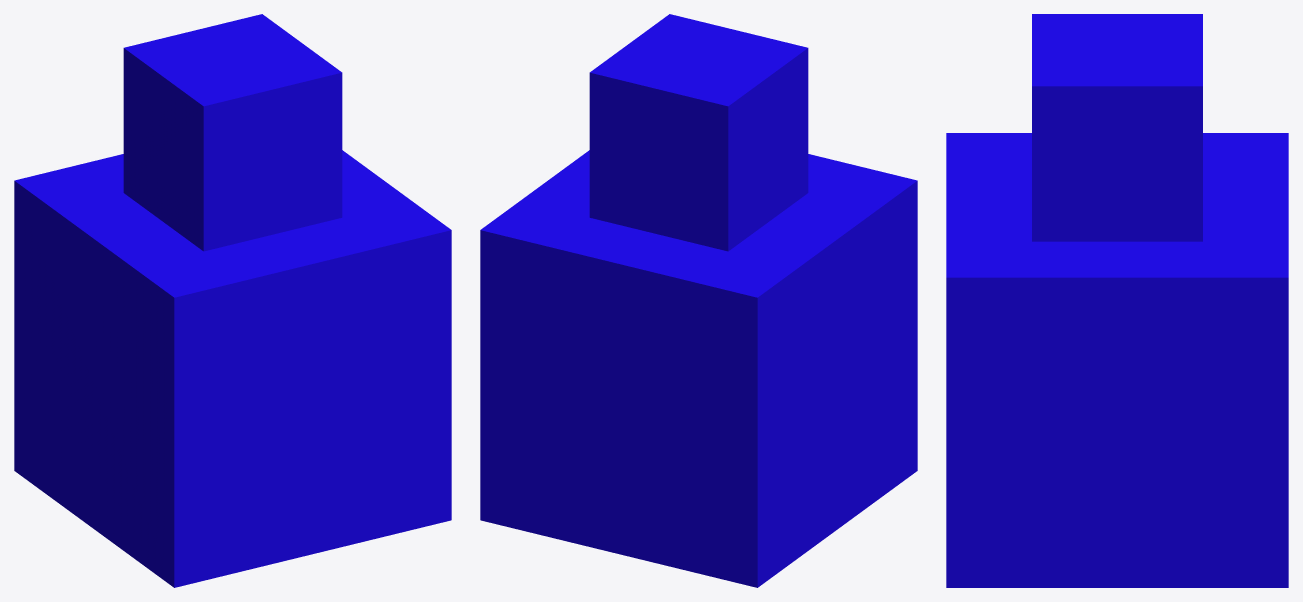
The model's file is towerBlue (4).glb.
3 renders of one model, left to right at view 1: azimuth 30°, elevation 25°; view 2: azimuth 150°, elevation 25°; view 3: azimuth 270°, elevation 25°, orthographic. The views are drawn at different scales.
Parts seen in each view (by area): view 1: Cube.003; view 2: Cube.003; view 3: Cube.003.
Part boxes in pixels (<box>): Cube.003: <box>14,14,451,587</box>; Cube.003: <box>480,14,917,587</box>; Cube.003: <box>946,14,1288,587</box>.
Bounding box in the file's own units: 2.5 × 3.75 × 2.5.
